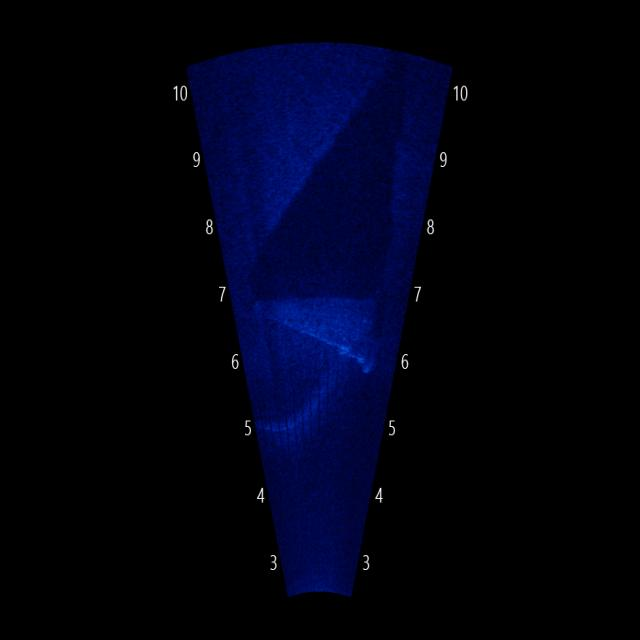triangle: (256, 258, 385, 385)
